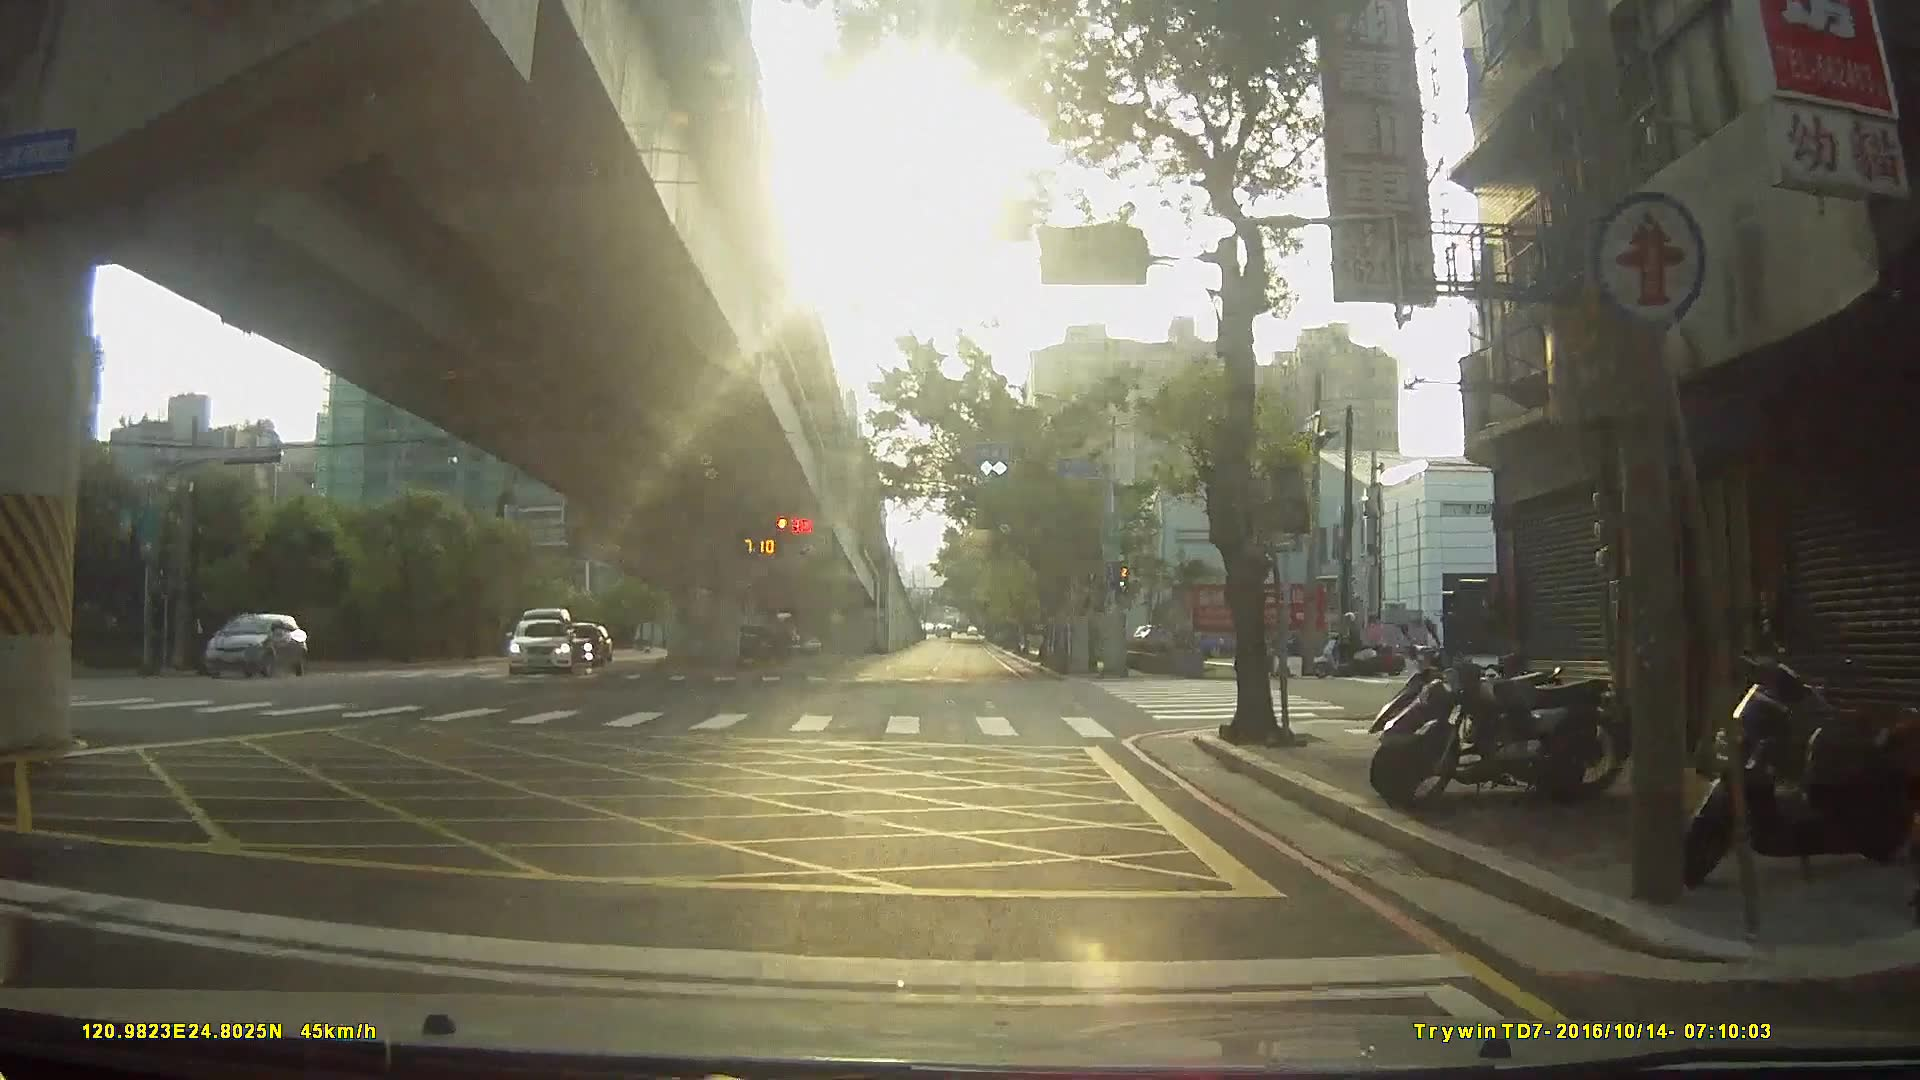rider: (1312, 612, 1380, 680)
vehicle: (188, 611, 311, 678), (499, 618, 571, 677), (713, 618, 797, 663), (549, 622, 602, 668)
